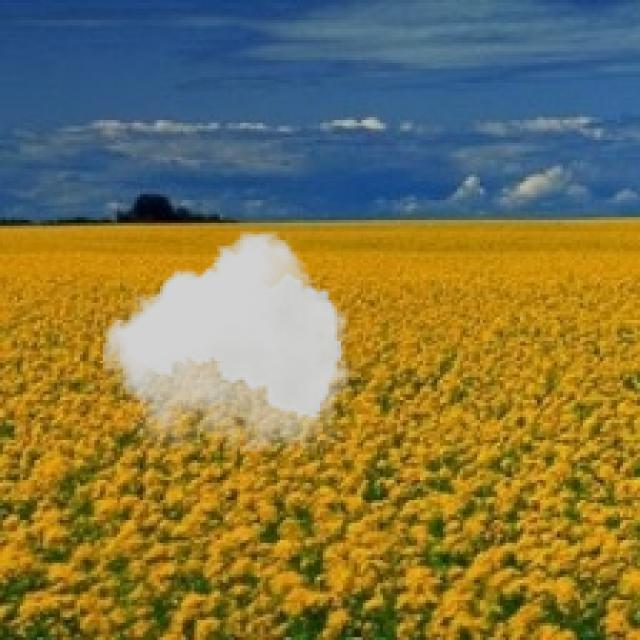Smoke: (102, 232, 352, 452)
